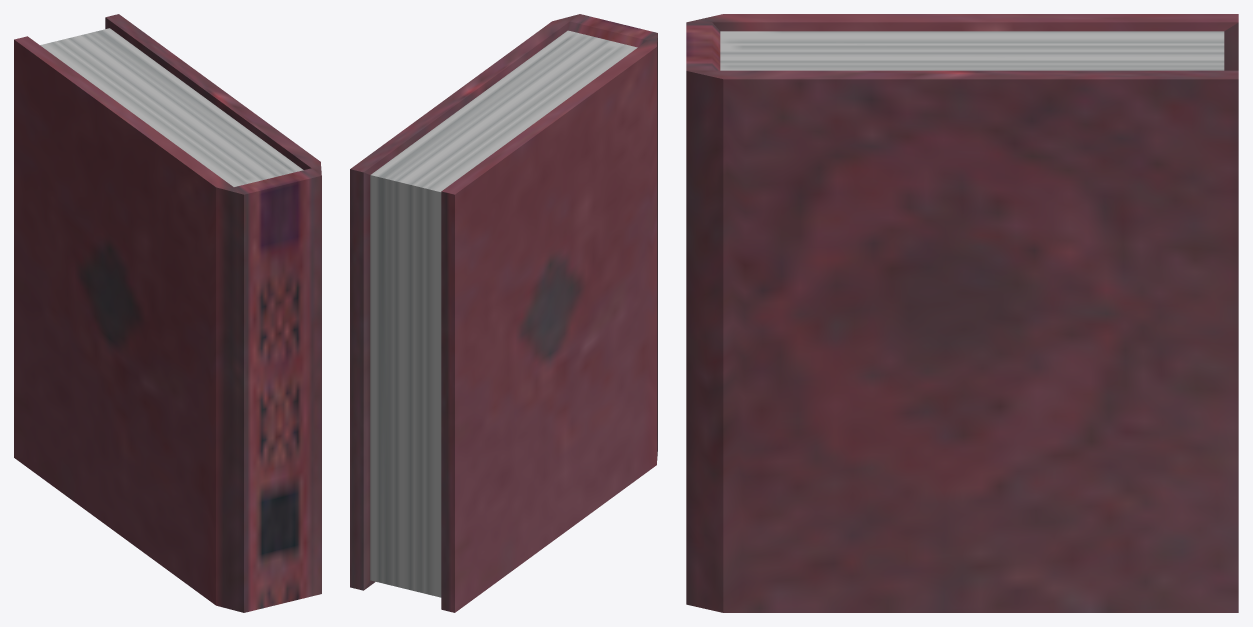
Rendered from livro3.fbx.
The picture shows the model from 3 angles, left to right: view 1: azimuth 30°, elevation 25°; view 2: azimuth 150°, elevation 25°; view 3: azimuth 270°, elevation 25°; orthographic projection. The views are drawn at different scales.
Parts seen in each view (by area): view 1: Cube.065; view 2: Cube.065; view 3: Cube.065.
Part boxes in pixels (bbox=[...]): Cube.065: bbox=[14, 14, 321, 612]; Cube.065: bbox=[350, 14, 657, 612]; Cube.065: bbox=[686, 14, 1238, 612].
Bounding box in the file's own units: 14.87 × 56.73 × 53.22.
Materials: 1 (1 with a texture image).
